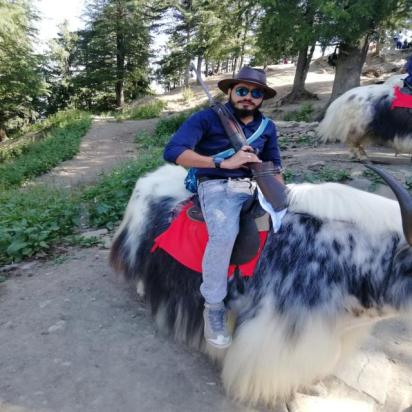Gun: (186, 62, 297, 214)
